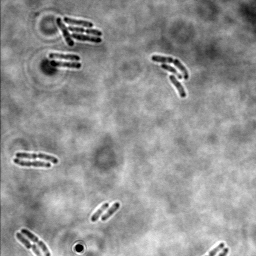Dividing: (20, 227, 51, 255), (14, 152, 59, 165), (12, 158, 52, 168), (48, 52, 82, 62)
Microcolony: (150, 53, 190, 99), (55, 16, 104, 48)
Rod: (90, 201, 109, 223), (100, 202, 121, 221), (50, 60, 82, 70), (15, 232, 32, 250)
